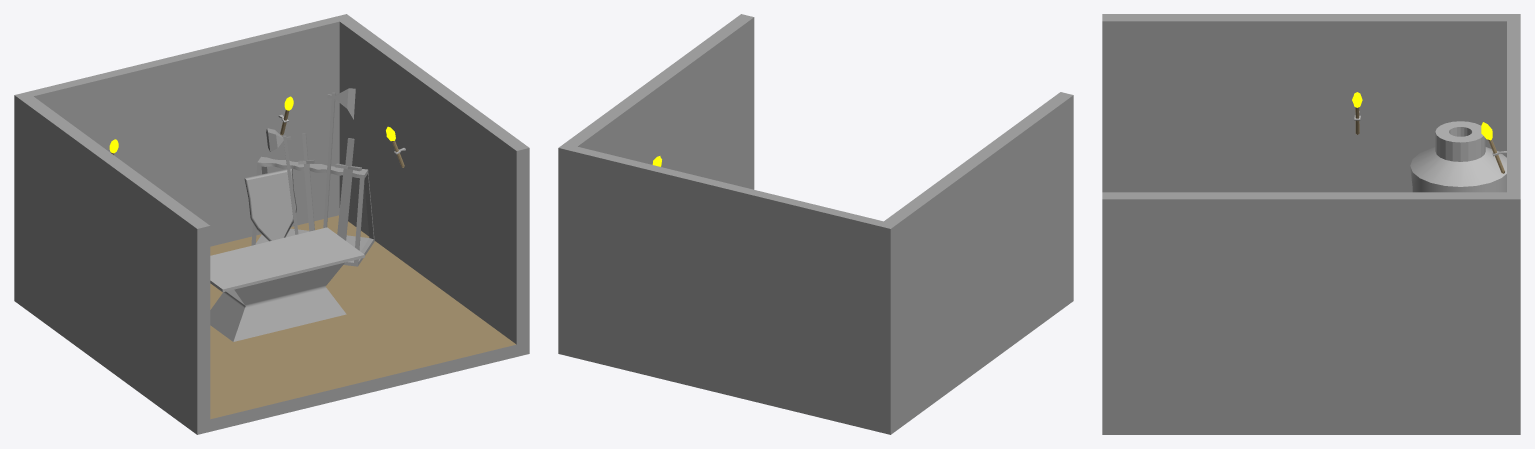
Rendered from RoomFBX.fbx.
3 views of the same model, side by side, from view 1: azimuth 30°, elevation 25°; view 2: azimuth 150°, elevation 25°; view 3: azimuth 270°, elevation 25° (orthographic). The views are drawn at different scales.
Parts seen in each view (by area): view 1: Room, Anvil, Shield, Stand, Sword, Axe, Axe1, Sword1; view 2: Room; view 3: Room, Forge.
Part boxes in pixels (x1=…): Room: x1=14, y1=14, x2=529, y2=434; Anvil: x1=210, y1=227, x2=364, y2=341; Shield: x1=244, y1=168, x2=296, y2=241; Stand: x1=251, y1=156, x2=374, y2=266; Sword: x1=335, y1=138, x2=361, y2=240; Axe: x1=323, y1=88, x2=355, y2=227; Axe1: x1=266, y1=128, x2=298, y2=234; Sword1: x1=298, y1=133, x2=314, y2=231; Room: x1=558, y1=14, x2=1073, y2=434; Room: x1=1102, y1=14, x2=1520, y2=434; Forge: x1=1410, y1=121, x2=1506, y2=192.
Size of the model in its own units: 31.54 by 18.68 by 30.06.
